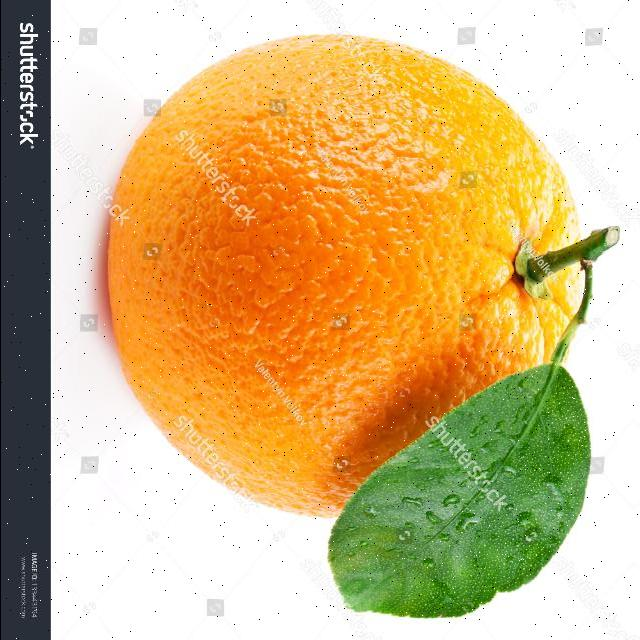Orange: (104, 32, 610, 520)
